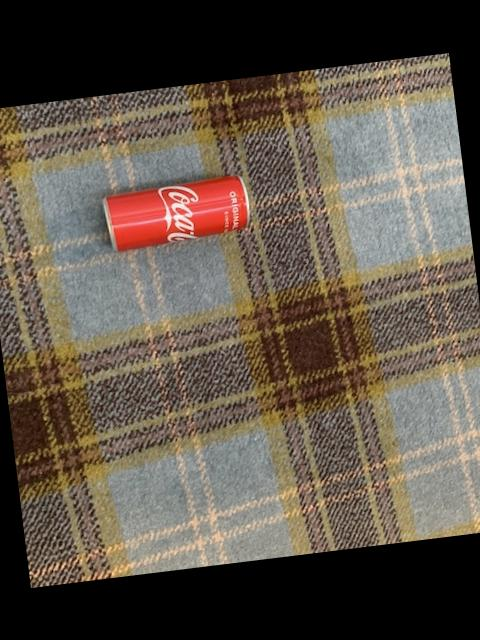metal: (101, 178, 247, 253)
